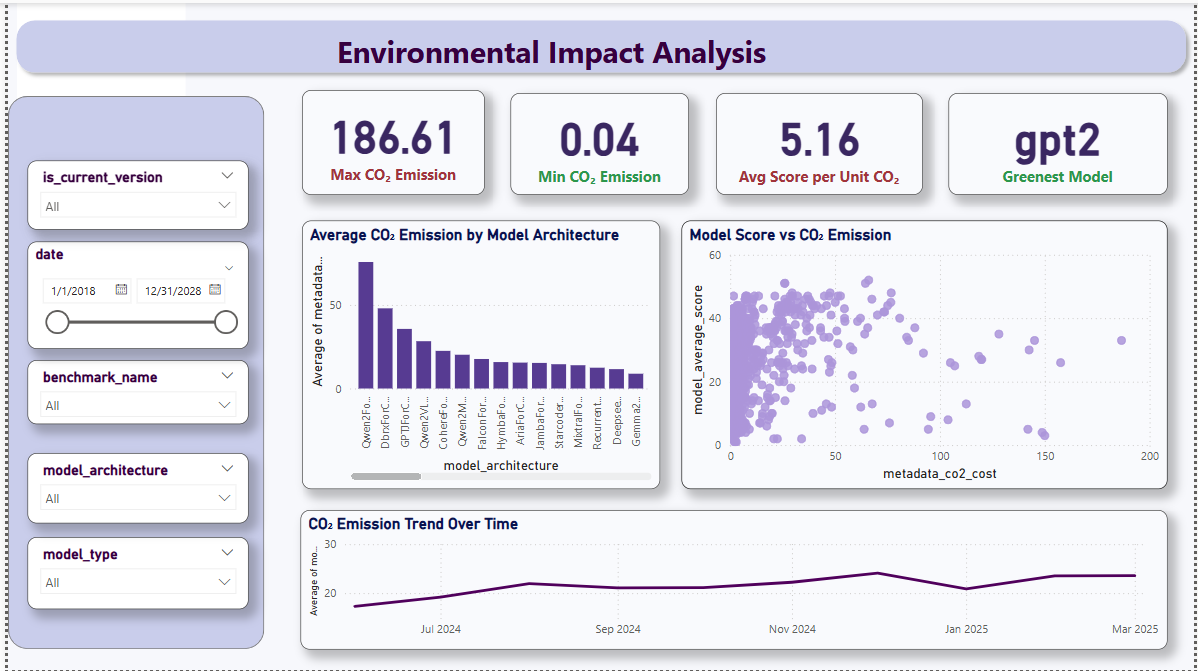

Layout of this report page (visuals, bound fields, positions):
{"tool":"powerbi","page":{"name":"Environmental Impact Analysis","canvas":[1280,720],"ordinal":3},"visuals":[{"type":"card","fields":{"Values":["FactModelSnapshot.Average CO₂ Emission per Model"]},"box":[10,0,181.7,280],"z":0},{"type":"card","fields":{"Values":["FactModelSnapshot.Max CO₂ Emission"]},"box":[317.4,93.9,197.5,113.3],"z":1000},{"type":"card","fields":{"Values":["FactModelSnapshot.Min CO₂ Emission"]},"box":[542.4,97.2,192.7,110.1],"z":2000},{"type":"card","fields":{"Values":["FactModelSnapshot.Avg Score per Unit CO₂"]},"box":[764.3,97.2,223.5,110.1],"z":3000},{"type":"scatterChart","title":"Model Score vs CO₂ Emission","fields":{"X":["FactModelSnapshot.metadata_co2_cost"],"Y":["FactModelSnapshot.model_average_score"]},"box":[727,234.8,524.6,289.8],"z":4000},{"type":"lineChart","title":"\tCO₂ Emission Trend Over Time","fields":{"Category":["DimDate.full_date.Variation.Date Hierarchy.Year","DimDate.full_date.Variation.Date Hierarchy.Quarter","DimDate.full_date.Variation.Date Hierarchy.Month"],"Y":["Avg(FactModelSnapshot.model_average_score)"]},"box":[315.7,547.3,935.9,150.6],"z":5000},{"type":"card","fields":{"Values":["FactModelSnapshot.Greenest Model"]},"box":[1015.3,97.2,236.4,110.1],"z":6000},{"type":"columnChart","title":"Average CO₂ Emission by Model Architecture","fields":{"Category":["DimModel.model_architecture"],"Y":["Avg(FactModelSnapshot.metadata_co2_cost)"]},"box":[317.4,234.8,387,289.8],"z":7000},{"type":"shape","box":[0,100.4,276.9,597.5],"z":8000},{"type":"slicer","fields":{"Values":["DimModel.model_type"]},"box":[20.8,576.3,238.8,77.9],"z":9000},{"type":"slicer","fields":{"Values":["DimModel.model_architecture"]},"box":[20.8,486.3,238.8,76.1],"z":10000},{"type":"slicer","fields":{"Values":["DimBenchmark.benchmark_name"]},"box":[20.8,385.9,238.8,69.2],"z":11000},{"type":"slicer","title":"date","fields":{"Values":["DimDate.full_date"]},"box":[20.8,257.8,238.8,115.9],"z":12000},{"type":"slicer","fields":{"Values":["DimModel.is_current_version"]},"box":[20.8,169.6,238.8,74.4],"z":13000},{"type":"shape","box":[0,10,1280.6,74.4],"z":14000},{"type":"textbox","box":[349.8,24.3,578.1,59.9],"z":15000}]}

Visuals, with their boxes in screenshot pixels (x1, y1, x2, y2), scaled from the page's 1280x720 canvas onto the 1198x671 screenshot:
card - FactModelSnapshot.Average CO₂ Emission per Model: Rect(9, 0, 179, 261)
card - FactModelSnapshot.Max CO₂ Emission: Rect(297, 88, 482, 193)
card - FactModelSnapshot.Min CO₂ Emission: Rect(508, 91, 688, 193)
card - FactModelSnapshot.Avg Score per Unit CO₂: Rect(715, 91, 925, 193)
"Model Score vs CO₂ Emission" scatterChart: Rect(680, 219, 1171, 489)
"	CO₂ Emission Trend Over Time" lineChart: Rect(295, 510, 1171, 650)
card - FactModelSnapshot.Greenest Model: Rect(950, 91, 1172, 193)
"Average CO₂ Emission by Model Architecture" columnChart: Rect(297, 219, 659, 489)
shape: Rect(0, 94, 259, 650)
slicer - DimModel.model_type: Rect(19, 537, 243, 610)
slicer - DimModel.model_architecture: Rect(19, 453, 243, 524)
slicer - DimBenchmark.benchmark_name: Rect(19, 360, 243, 424)
"date" slicer: Rect(19, 240, 243, 348)
slicer - DimModel.is_current_version: Rect(19, 158, 243, 227)
shape: Rect(0, 9, 1197, 79)
textbox: Rect(327, 23, 868, 78)
